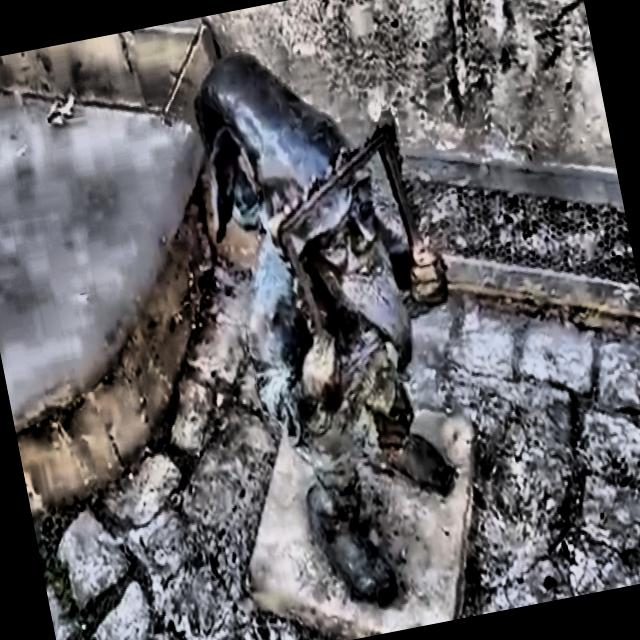Galeriusz: (196, 55, 454, 602)
